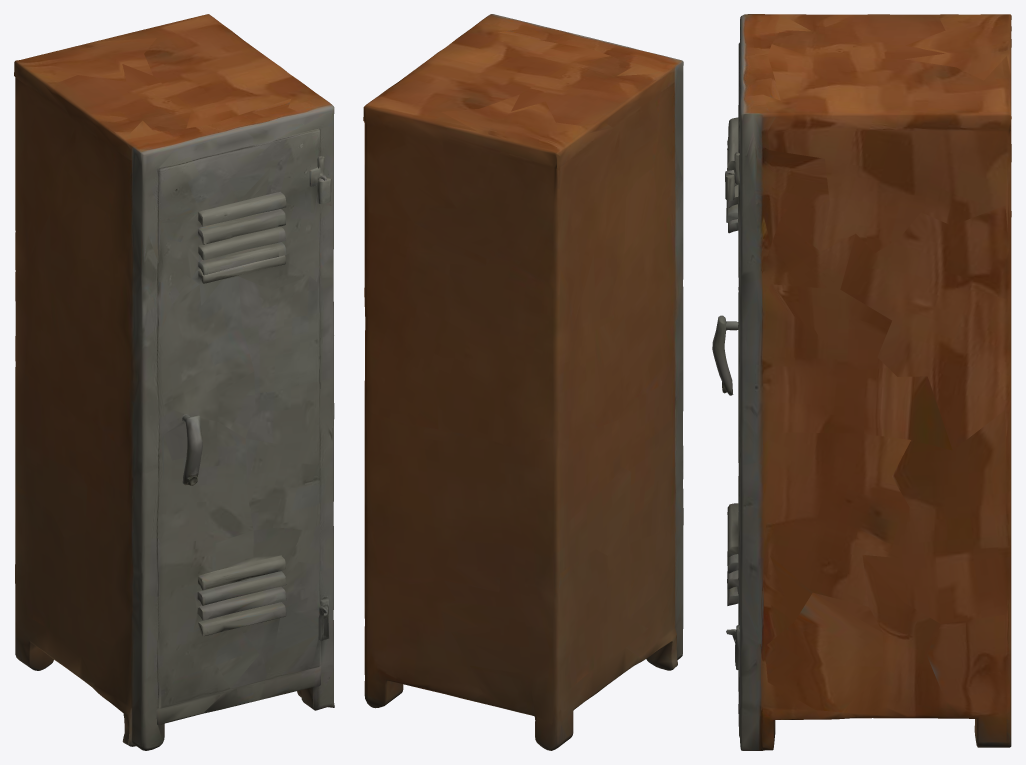
File: locker_idle.glb
3 renders of one model, left to right at view 1: azimuth 30°, elevation 25°; view 2: azimuth 150°, elevation 25°; view 3: azimuth 270°, elevation 25°, orthographic. The views are drawn at different scales.
Parts seen in each view (by area): view 1: tripo_node_5ca25d7f-1451-4758-bc7d-be7743df49c8; view 2: tripo_node_5ca25d7f-1451-4758-bc7d-be7743df49c8; view 3: tripo_node_5ca25d7f-1451-4758-bc7d-be7743df49c8.
Part boxes in pixels (bbox=[...]): tripo_node_5ca25d7f-1451-4758-bc7d-be7743df49c8: bbox=[14, 14, 334, 750]; tripo_node_5ca25d7f-1451-4758-bc7d-be7743df49c8: bbox=[363, 14, 683, 750]; tripo_node_5ca25d7f-1451-4758-bc7d-be7743df49c8: bbox=[712, 14, 1011, 750].
Size of the model in its own units: 0.6287 by 1.8 by 0.7656.
1 material, 1 textured.
